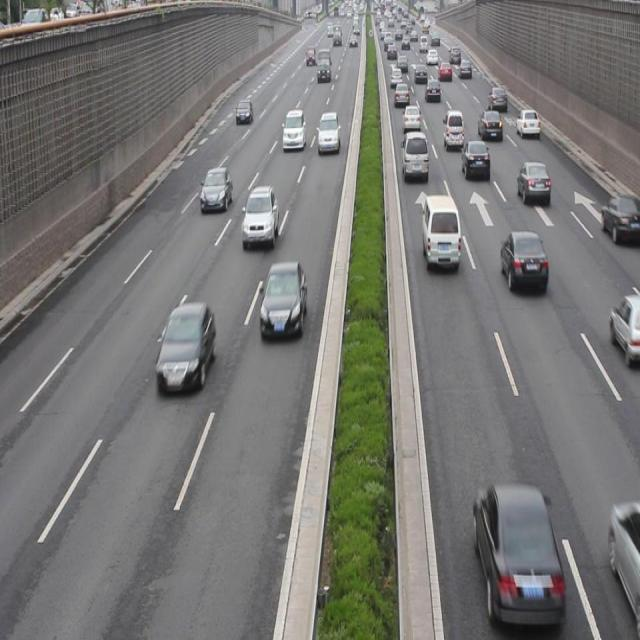car: (474, 480, 564, 614), (156, 300, 215, 398), (607, 499, 640, 622), (259, 260, 306, 341), (500, 230, 547, 294), (241, 185, 278, 249), (608, 294, 640, 364), (600, 191, 640, 244), (200, 165, 231, 214), (515, 160, 549, 204), (461, 140, 489, 181), (282, 110, 306, 151), (317, 110, 340, 152), (477, 109, 503, 142), (515, 107, 539, 138), (401, 104, 421, 133)
truck: (423, 196, 460, 269), (402, 130, 428, 181), (444, 108, 463, 150)
